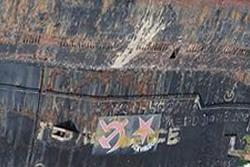rust: (124, 1, 249, 86), (1, 1, 99, 63), (36, 67, 115, 127), (108, 81, 159, 114), (119, 131, 166, 147)
